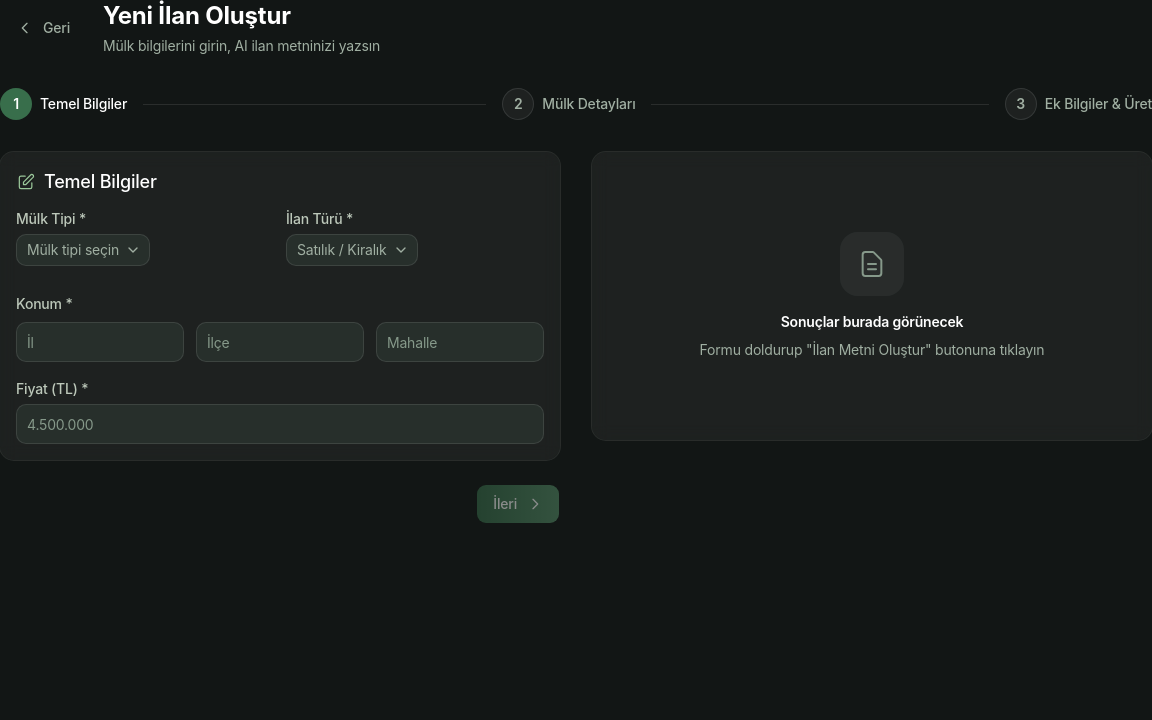
Test: New listing wizard › treats Enter on step one as navigation, not a generation request
This screenshot has width=1152, height=720.
Click the dropdown named "Mülk Tipi *": click(83, 250) [16, 234, 150, 266]
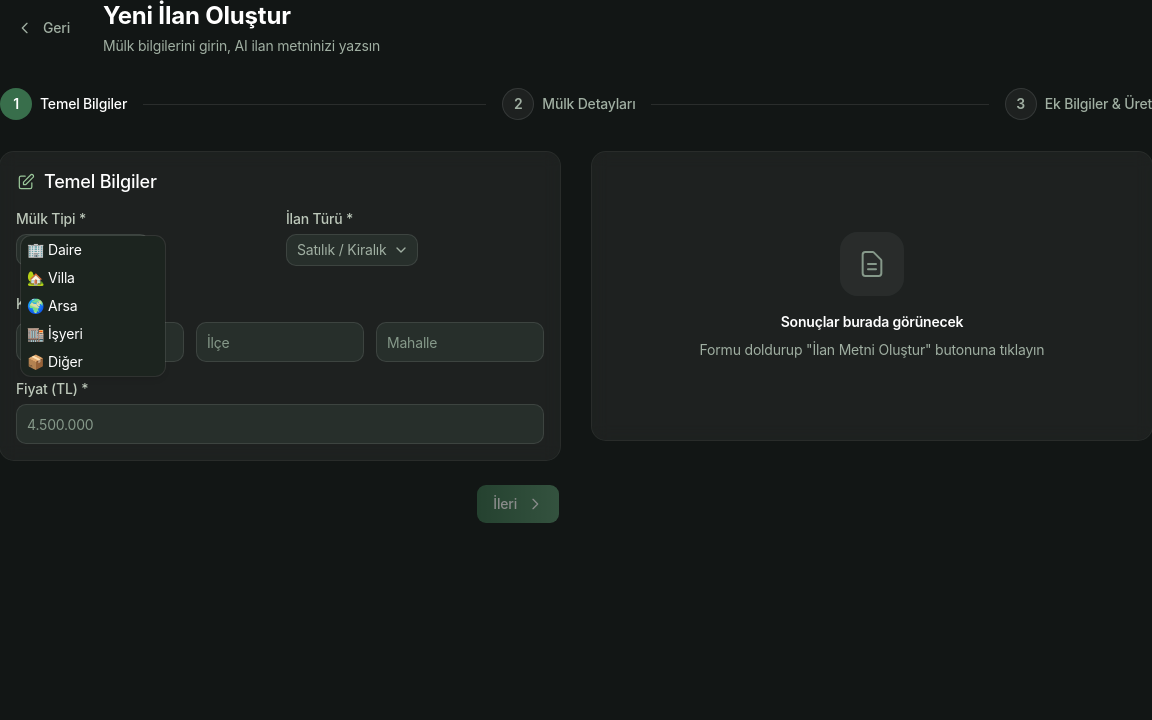
Click the option "🏢 Daire": click(54, 250) [27, 241, 82, 258]
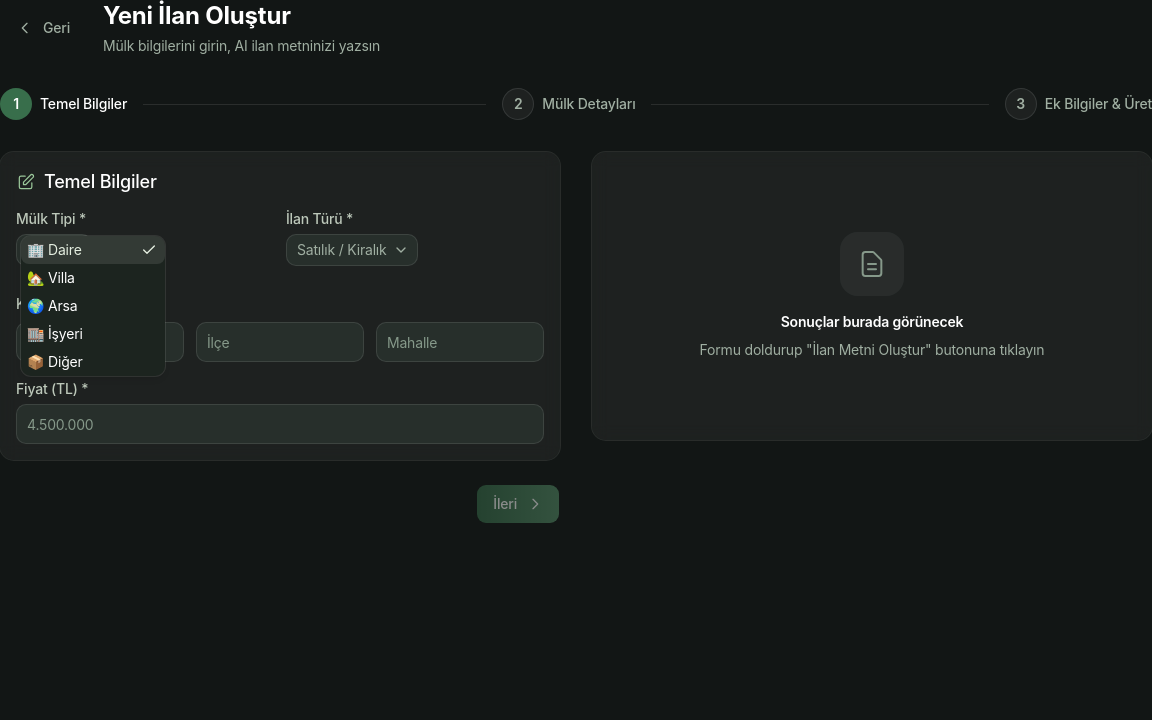
Click the dropdown named "İlan Türü *": click(352, 250) [286, 234, 418, 266]
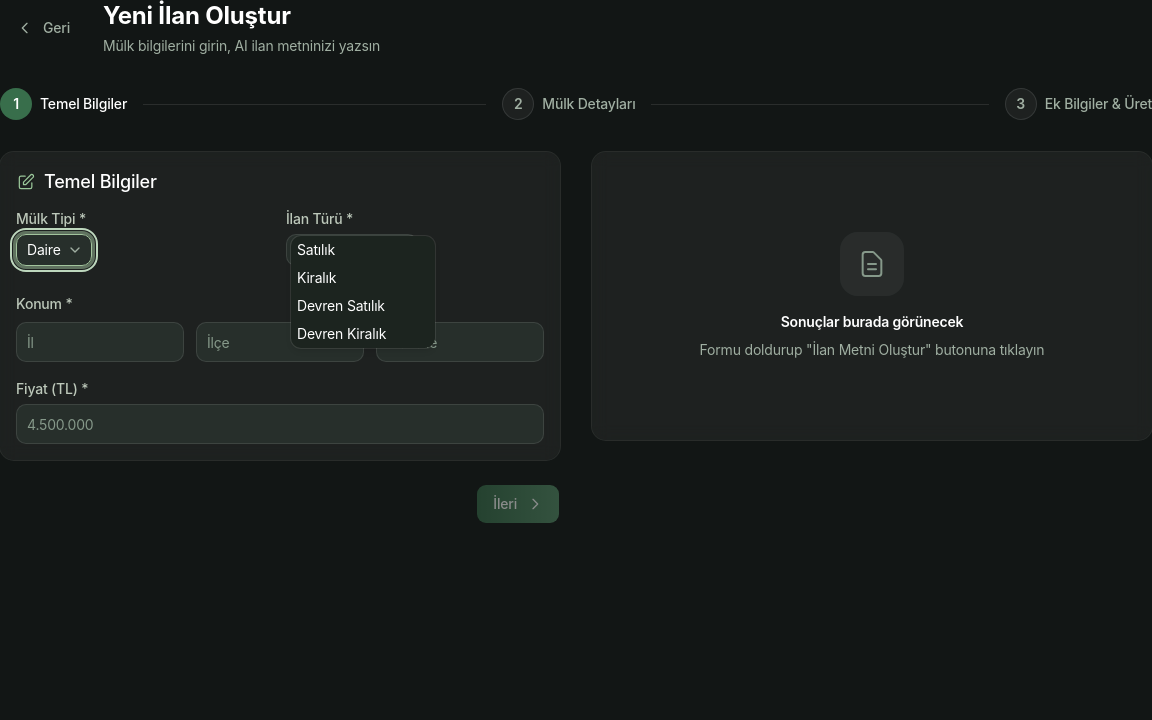
Click the option "Satılık": click(316, 250) [297, 241, 335, 258]
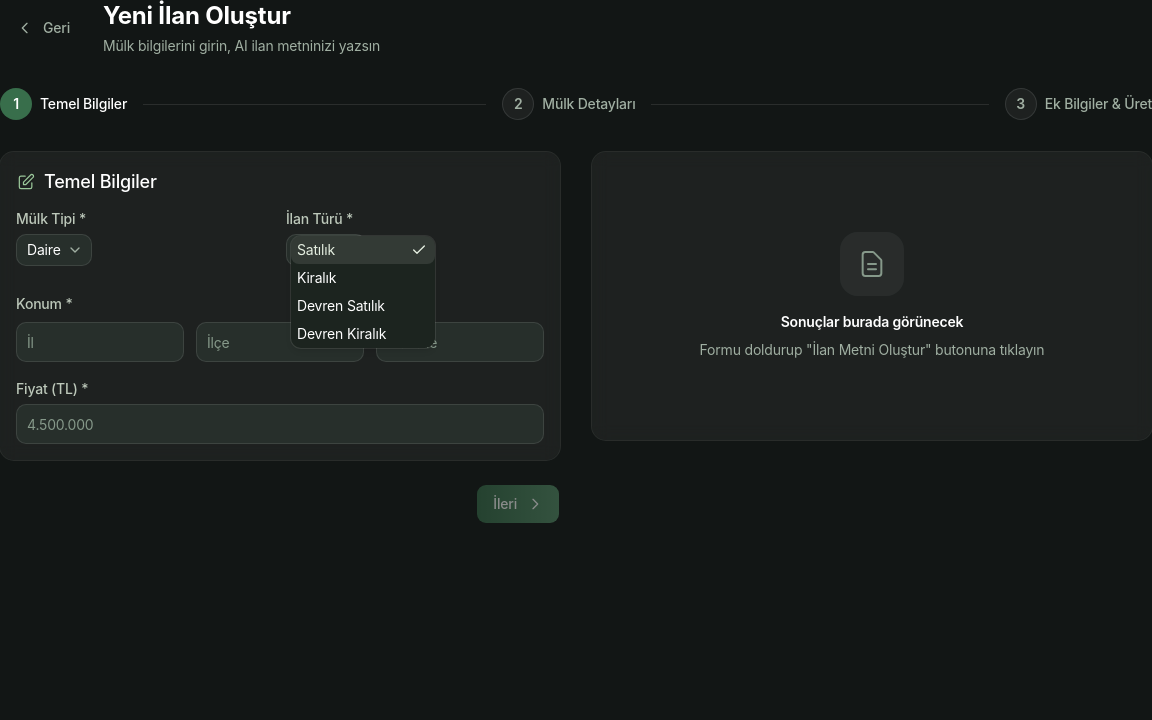
In the field labelled "İl": (100, 342) [16, 322, 184, 362], type "İstanbul"
In the field labelled "İlçe": (280, 342) [196, 322, 364, 362], type "Kadıköy"
In the field labelled "Fiyat (TL) *": (280, 424) [16, 404, 544, 444], type "4500000"
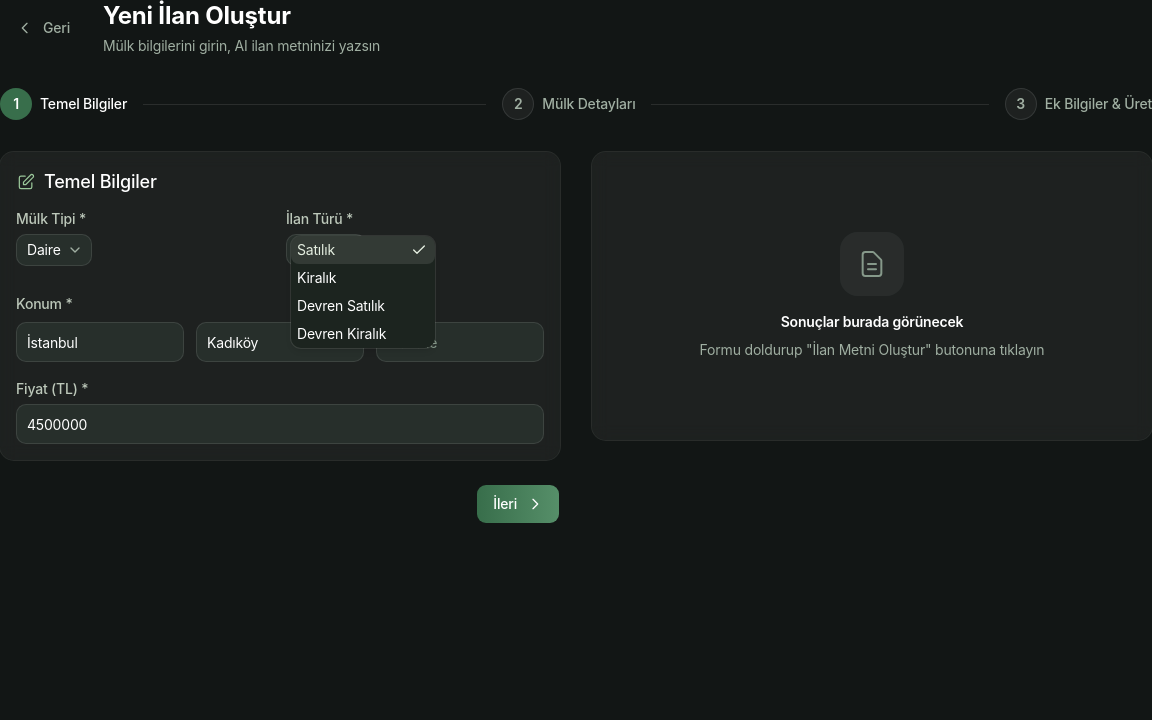
Submit the form, box [0, 152, 560, 524]
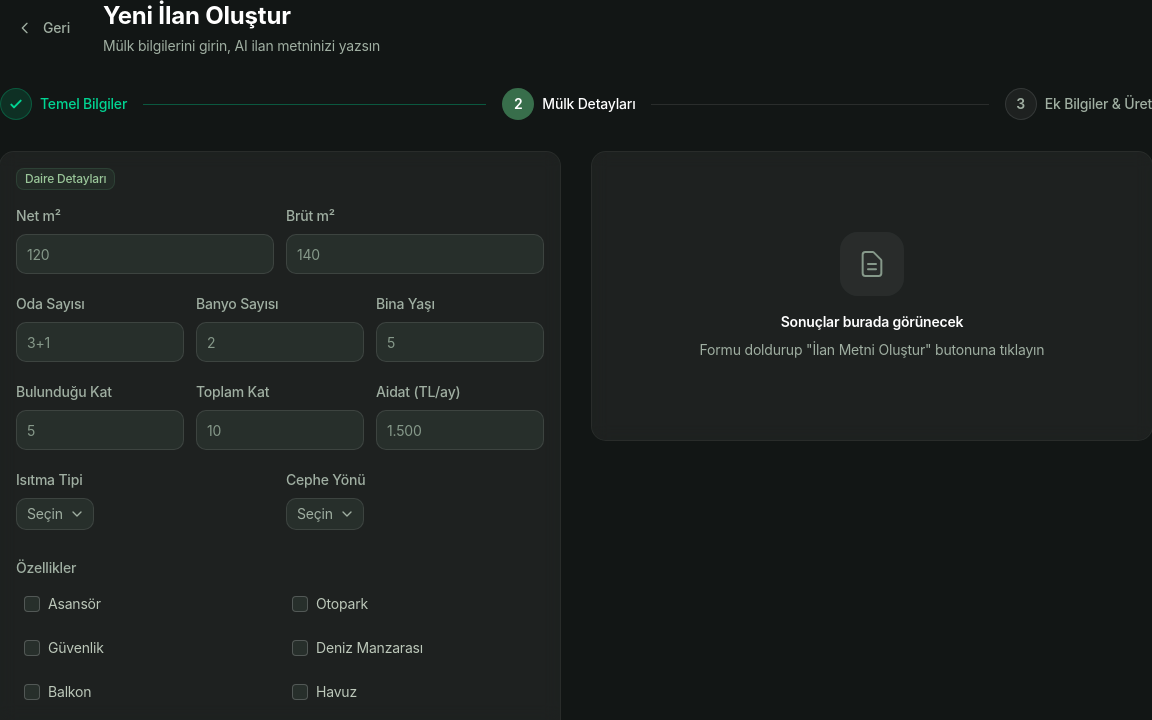
expect the text "Daire Detayları" is shown: met, box [16, 168, 115, 190]
expect the number field labelled "Net m²" is shown: met, box [16, 234, 274, 274]
